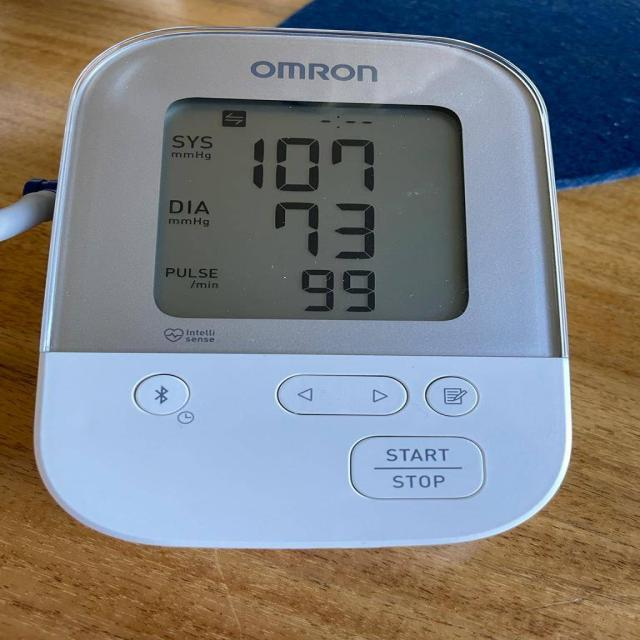bp: (32, 29, 574, 553)
